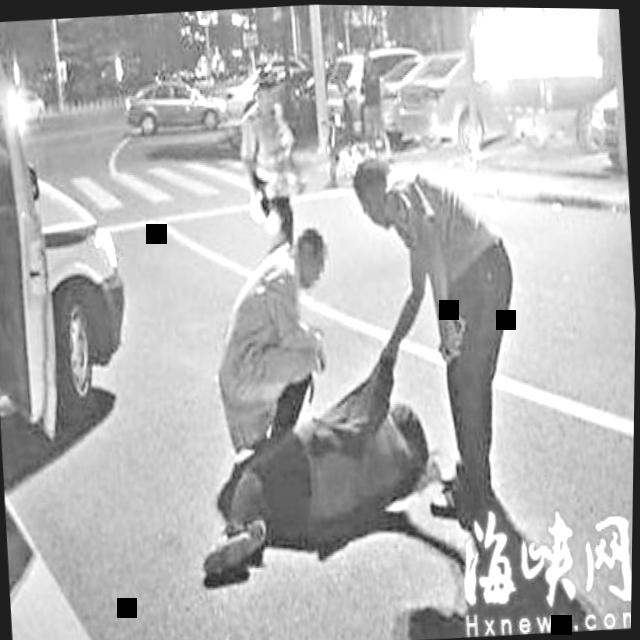Fall-Detected: (189, 363, 455, 574)
